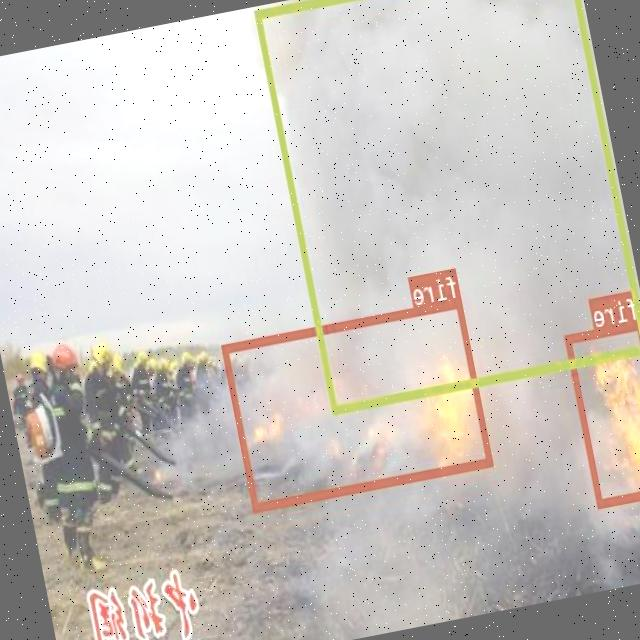fire: (223, 298, 494, 510), (565, 320, 640, 506)
smoke: (255, 0, 640, 413)
